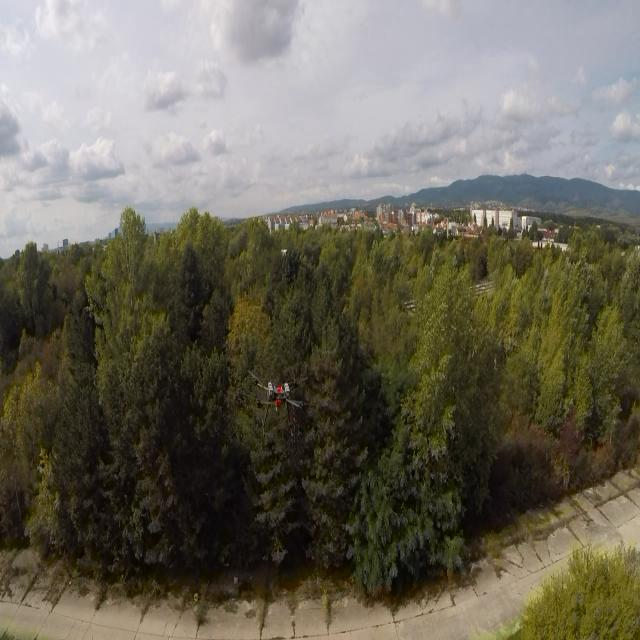UAV: (250, 366, 312, 446)
